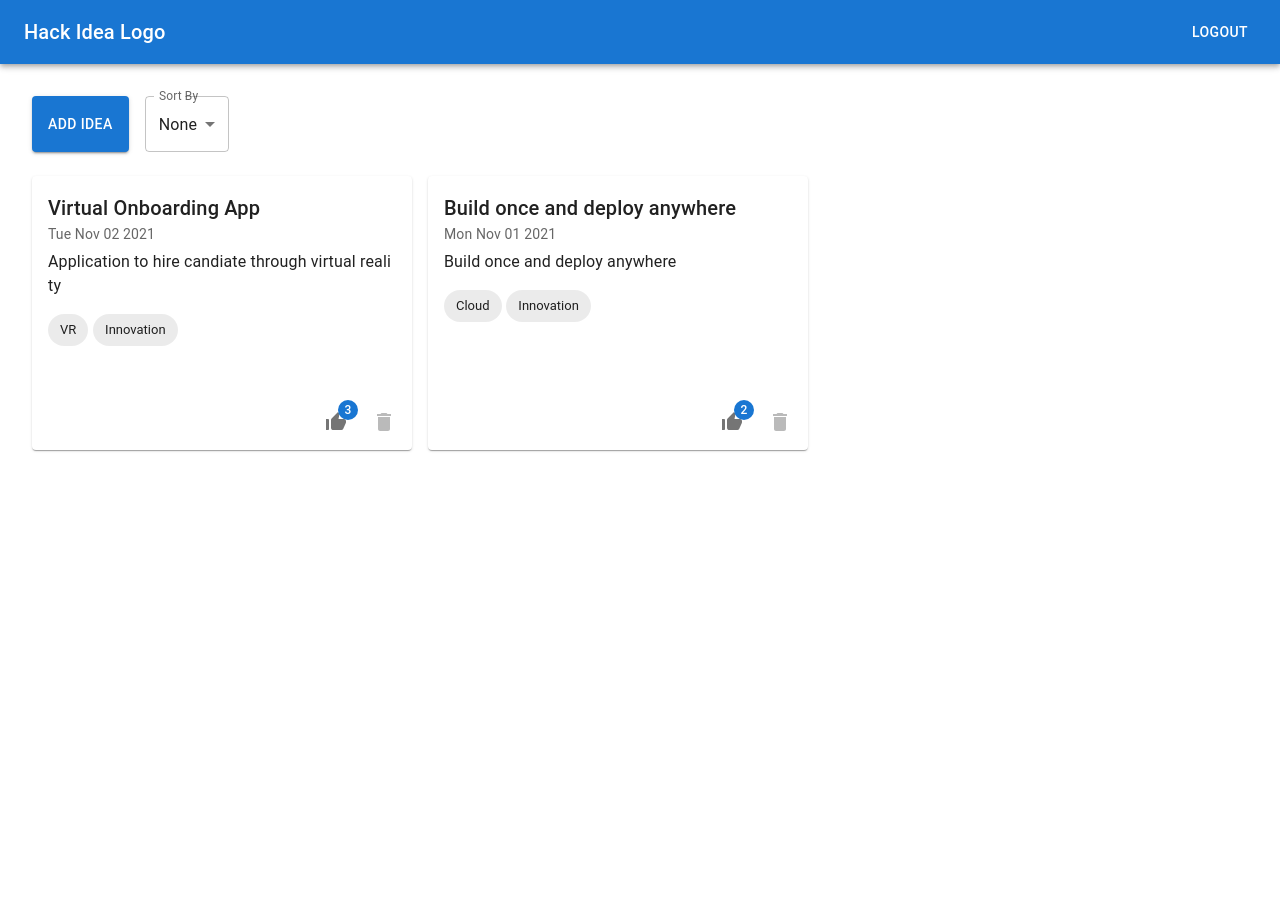
Test Home page › Clicking on Add Idea should open modal
The width and height of the screenshot is (1280, 900).
Click the button "Add Idea".
click(80, 124)  # box [32,96,129,152]
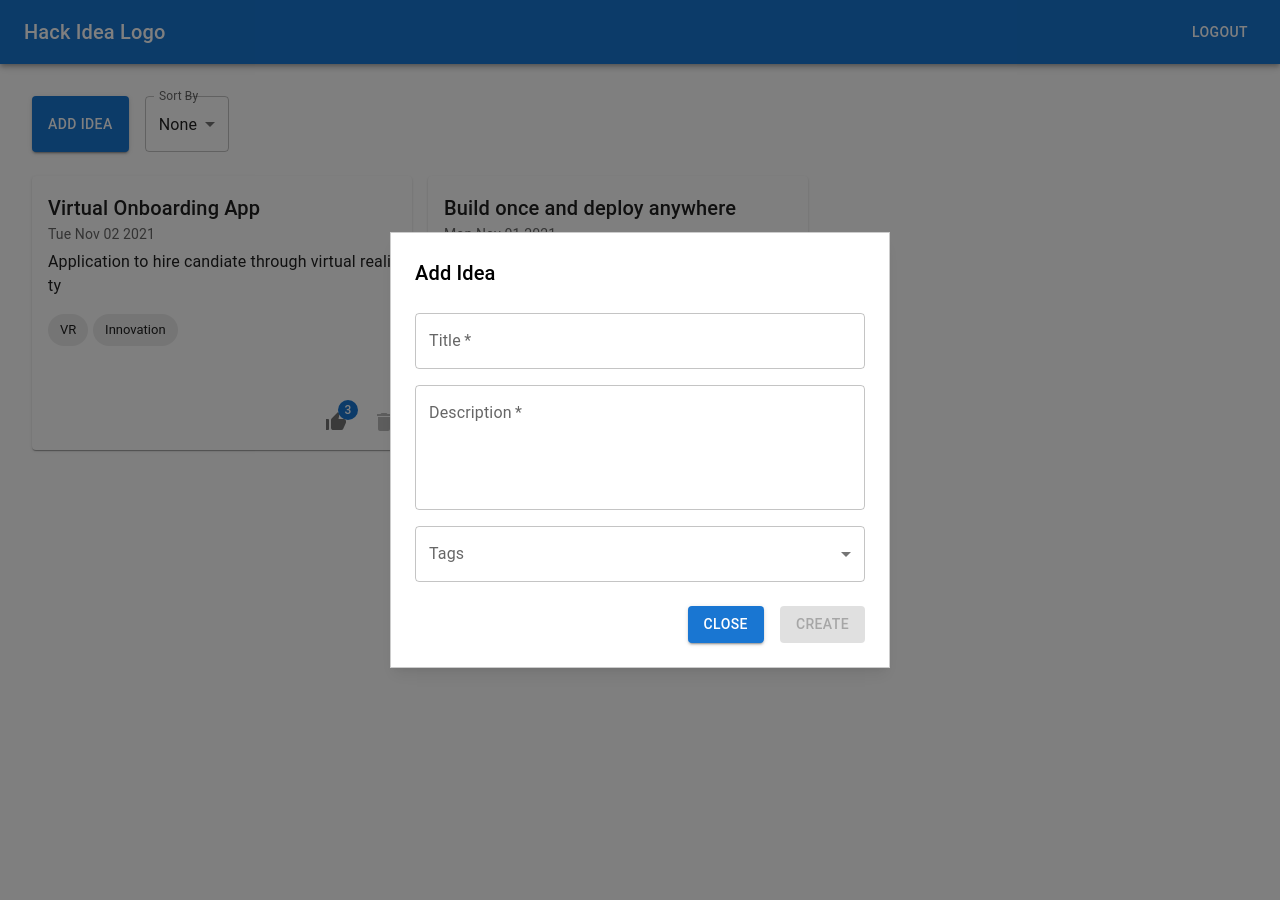
Expected: the element with test id "modal" is shown
Expected: the button "Create" is disabled, [780,606,865,643]
